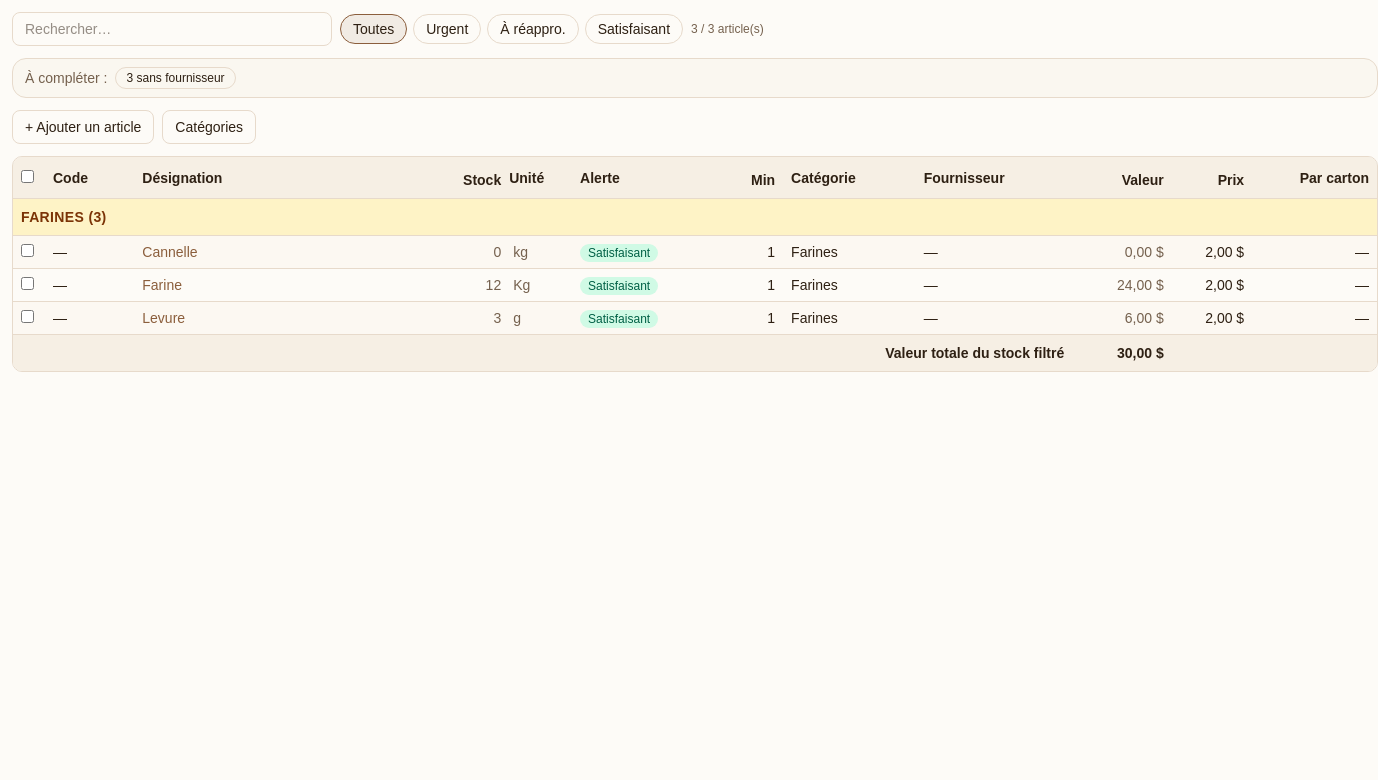
Scenario: suppression groupée : aperçu, confirmation, compte rendu › un stock non nul qui partira avec l'article est dit avant la confirmation
Click the checkbox named "Sélectionner Cannelle" at x=28, y=250, box [21, 244, 34, 257]
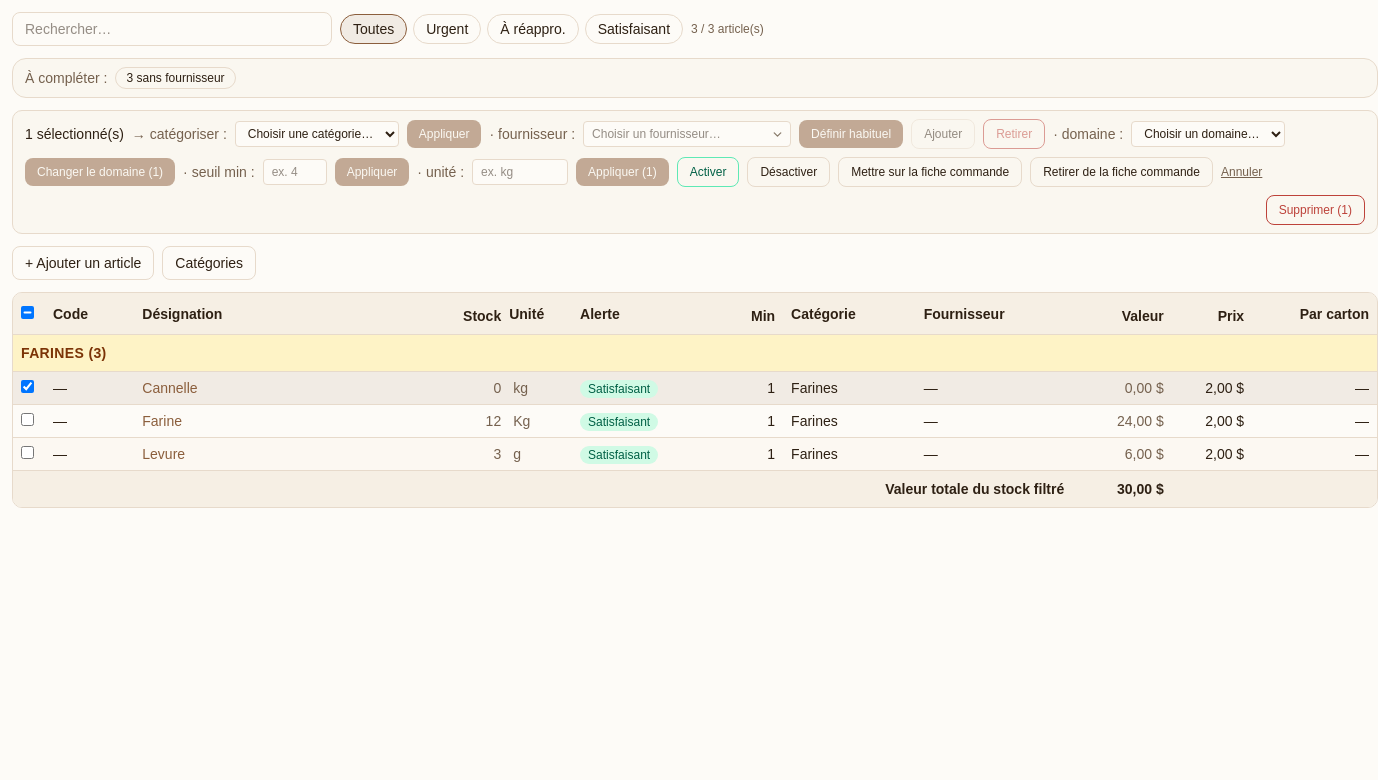
Check: the button "Supprimer (1)" is shown
Click the button "Supprimer (1)" at x=1315, y=210, box [1266, 195, 1365, 225]
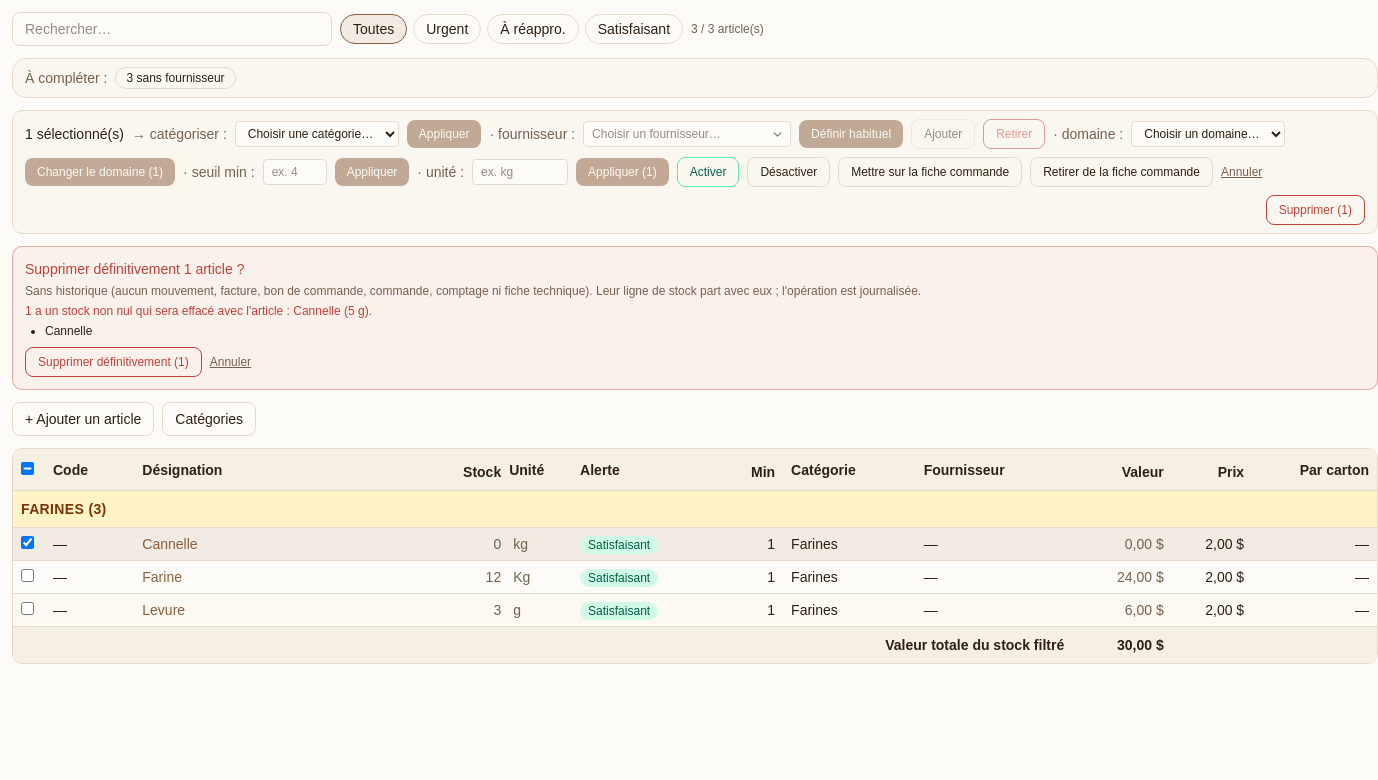
Check: the element that starts with "Supprimer définitivement 1 article ?" shows "stock non nul qui sera effacé avec l'article : Cannelle (5 g)", box [12, 246, 1377, 390]
